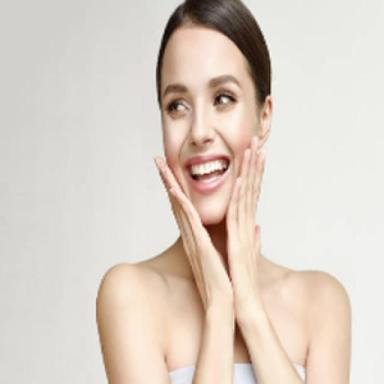normal skin: (97, 23, 349, 384)
